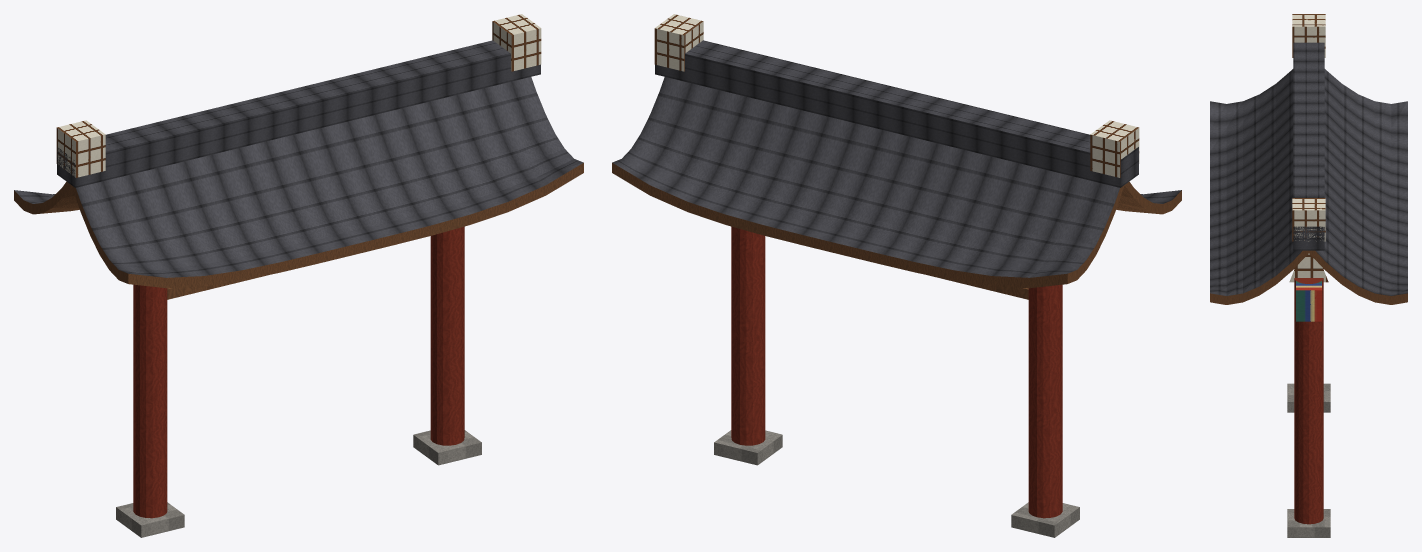
The model's file is arq_porton.obj.
The picture shows the model from 3 angles, left to right: view 1: azimuth 30°, elevation 25°; view 2: azimuth 150°, elevation 25°; view 3: azimuth 270°, elevation 25°; orthographic projection. The views are drawn at different scales.
Visible parts, largest first — view 1: arq_porton_teja, arq_porton_columna, arq_porton_madera, arq_porton_hanji, arq_porton_piedra; view 2: arq_porton_teja, arq_porton_columna, arq_porton_madera, arq_porton_hanji, arq_porton_piedra; view 3: arq_porton_teja, arq_porton_columna, arq_porton_hanji, arq_porton_madera, arq_porton_piedra, arq_porton_viga.
Boxes of the visible parts, box(x1,y1,x2,y2) form: arq_porton_teja: box(14, 40, 583, 277); arq_porton_columna: box(133, 226, 464, 518); arq_porton_madera: box(14, 163, 583, 299); arq_porton_hanji: box(56, 14, 541, 177); arq_porton_piedra: box(116, 430, 481, 537); arq_porton_teja: box(612, 40, 1181, 277); arq_porton_columna: box(731, 226, 1062, 518); arq_porton_madera: box(612, 163, 1181, 299); arq_porton_hanji: box(654, 14, 1139, 177); arq_porton_piedra: box(714, 430, 1079, 537); arq_porton_teja: box(1210, 42, 1407, 295); arq_porton_columna: box(1294, 268, 1323, 524); arq_porton_hanji: box(1289, 14, 1328, 282); arq_porton_madera: box(1210, 250, 1407, 304); arq_porton_piedra: box(1287, 383, 1330, 537); arq_porton_viga: box(1296, 281, 1321, 321).
Bounding box in the file's own units: 4.7 × 3.95 × 2.
6 materials, 6 textured.
